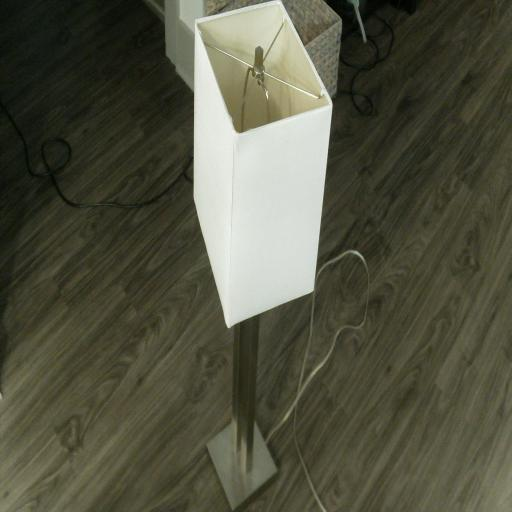lamp: (193, 0, 334, 512)
